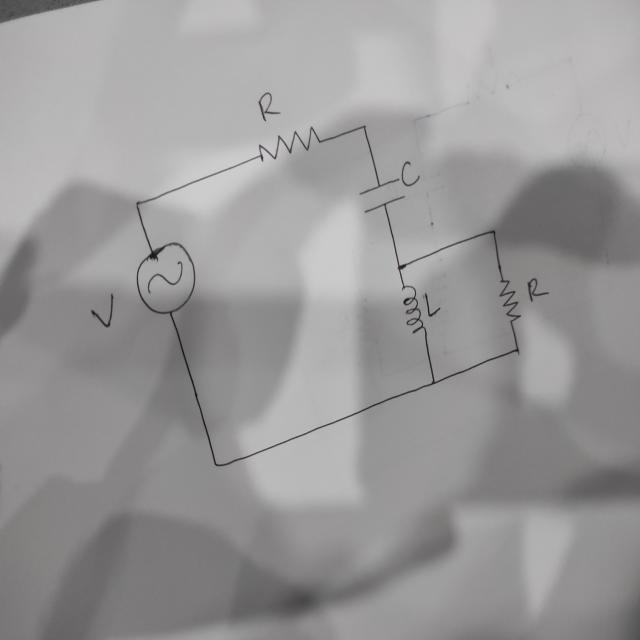capacitor: (358, 175, 407, 214)
inductor: (401, 284, 427, 335)
junction: (511, 344, 523, 356), (395, 260, 406, 272), (428, 377, 439, 388), (212, 457, 222, 469), (359, 122, 369, 133), (134, 197, 142, 210), (489, 227, 497, 236)
resistor: (254, 124, 325, 163), (497, 278, 522, 324)
source: (134, 240, 197, 316)
text: (89, 291, 115, 329), (258, 90, 282, 122), (526, 276, 550, 303), (400, 158, 420, 188), (423, 290, 442, 317)
